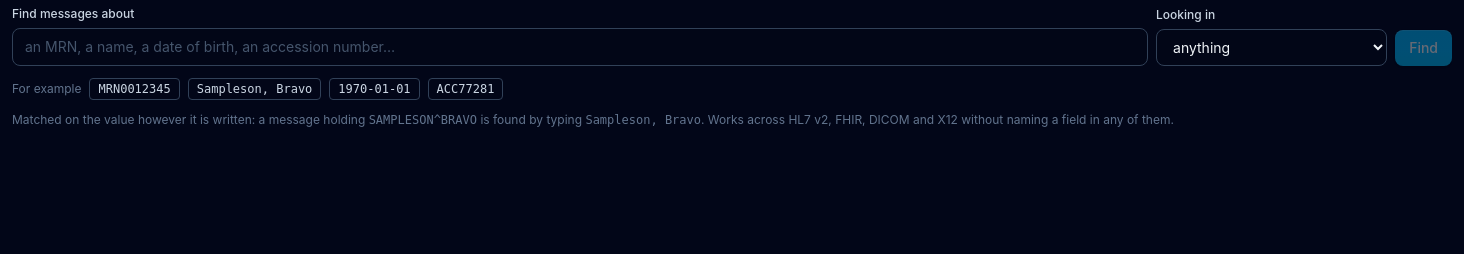
a patient search that found something › shows which identifier matched, not only that one did
The width and height of the screenshot is (1464, 254).
Type "MRN0012345" into the field with placeholder "an MRN, a name, a date of birth, an accession number…" at (580, 47), box [12,28,1148,66]
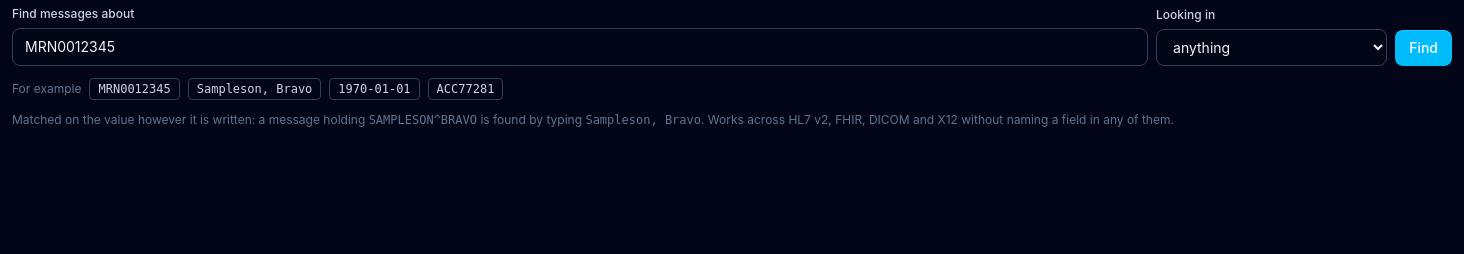
Click the button "Find" at (1424, 48), box [1395,30,1452,66]
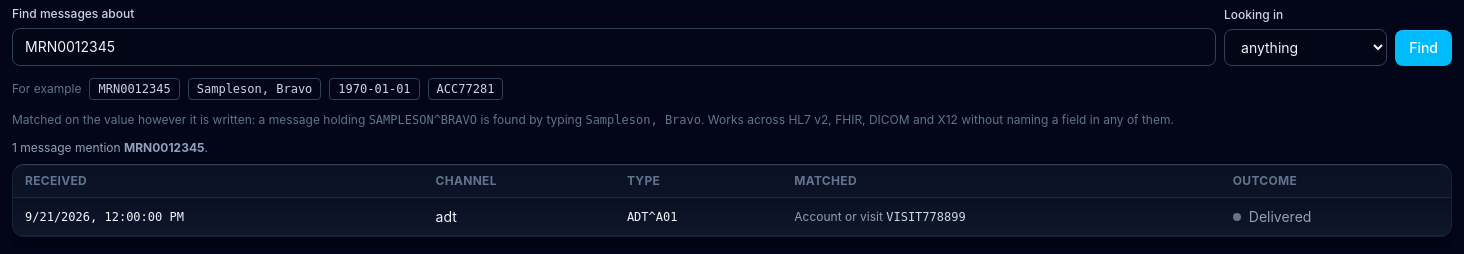
expect the text "1 message mention MRN0012345." is shown: met, box [12,140,208,155]
expect the text "Account or visit" is shown: met, box [794,208,883,224]
expect the text "VISIT778899" is shown: met, box [886,210,966,224]
